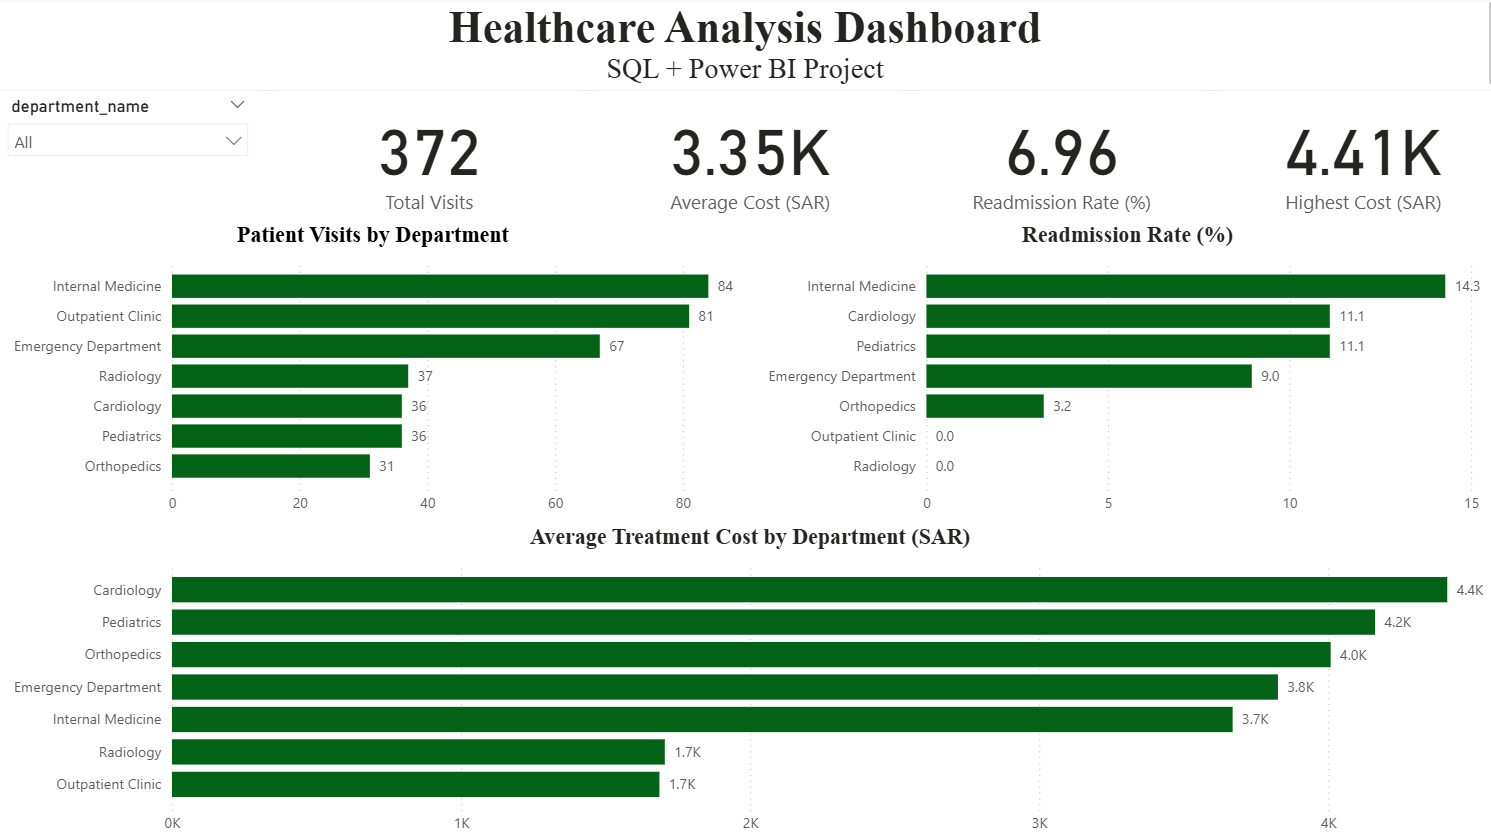

The dashboard page shown, as its layout file describes it:
{"tool":"powerbi","page":{"name":"Executive Overview","canvas":[1280,720],"ordinal":0},"visuals":[{"type":"clusteredBarChart","title":"Patient Visits by Department","fields":{"Category":["department_workload.department_name"],"Y":["Sum(department_workload.total_visits)"]},"box":[0,192,640,256],"z":0},{"type":"clusteredBarChart","title":"Average Treatment Cost by Department (SAR)","fields":{"Category":["cost_by_department.department_name"],"Y":["Sum(cost_by_department.avg_department_cost)"]},"box":[0,448,1280,272],"z":1000},{"type":"clusteredBarChart","title":"Readmission Rate (%)","fields":{"Category":["readmission_by_department.department_name"],"Y":["Sum(readmission_by_department.readmission_rate)"]},"box":[640,192,640,256],"z":2000},{"type":"textbox","box":[0,0,1280,80],"z":3000},{"type":"card","fields":{"Values":["Sum(department_workload.total_visits)"]},"box":[240,80,256,112],"z":4000},{"type":"card","fields":{"Values":["Avg(cost_by_department.avg_department_cost)"]},"box":[512,80,256,112],"z":5000},{"type":"card","fields":{"Values":["Avg(readmission_by_department.readmission_rate)"]},"box":[784,80,240,112],"z":6000},{"type":"card","fields":{"Values":["age_groups.Highest Avg Cost"]},"box":[1040,80,240,112],"z":7000},{"type":"slicer","fields":{"Values":["readmission_by_department.department_name"]},"box":[0,80,224,112],"z":8000}]}

Visuals, with their boxes in screenshot pixels (x1, y1, x2, y2), scaled from the page's 1280x720 canvas onto the 1491x840 screenshot:
"Patient Visits by Department" clusteredBarChart: pyautogui.locateOnScreen(0, 224, 746, 523)
"Average Treatment Cost by Department (SAR)" clusteredBarChart: pyautogui.locateOnScreen(0, 523, 1490, 839)
"Readmission Rate (%)" clusteredBarChart: pyautogui.locateOnScreen(746, 224, 1490, 523)
textbox: pyautogui.locateOnScreen(0, 0, 1490, 93)
card - Sum(department_workload.total_visits): pyautogui.locateOnScreen(280, 93, 578, 224)
card - Avg(cost_by_department.avg_department_cost): pyautogui.locateOnScreen(596, 93, 895, 224)
card - Avg(readmission_by_department.readmission_rate): pyautogui.locateOnScreen(913, 93, 1193, 224)
card - age_groups.Highest Avg Cost: pyautogui.locateOnScreen(1211, 93, 1490, 224)
slicer - readmission_by_department.department_name: pyautogui.locateOnScreen(0, 93, 261, 224)
